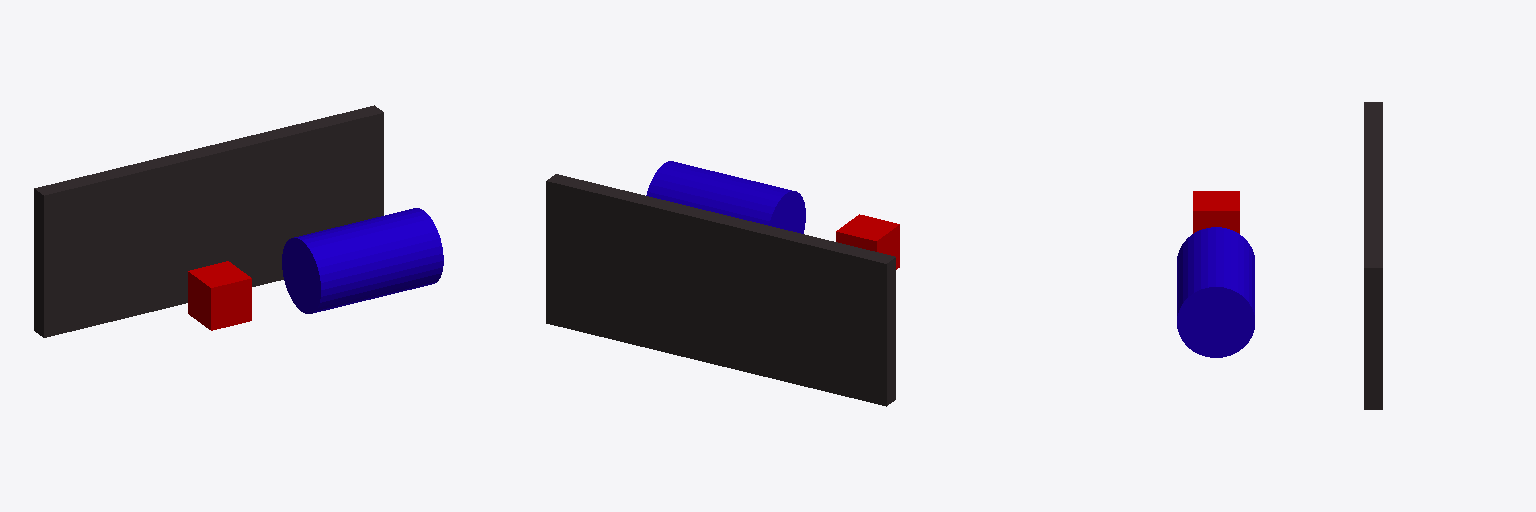
File: ReflectionNoView.obj
3 views of the same model, side by side, from view 1: azimuth 30°, elevation 25°; view 2: azimuth 150°, elevation 25°; view 3: azimuth 270°, elevation 25° (orthographic).
Parts seen in each view (by area): view 1: Cube, Cylinder, Cube.001; view 2: Cube, Cylinder, Cube.001; view 3: Cylinder, Cube, Cube.001.
Boxes of the visible parts, x1,y1,x2,y2 form: Cube: [34, 105, 383, 337]; Cylinder: [282, 208, 443, 313]; Cube.001: [188, 261, 251, 330]; Cube: [546, 174, 895, 406]; Cylinder: [646, 161, 805, 233]; Cube.001: [836, 214, 899, 269]; Cylinder: [1177, 227, 1254, 357]; Cube: [1364, 102, 1382, 409]; Cube.001: [1193, 191, 1239, 233].
Size of the model in its own units: 10 by 4 by 5.25.